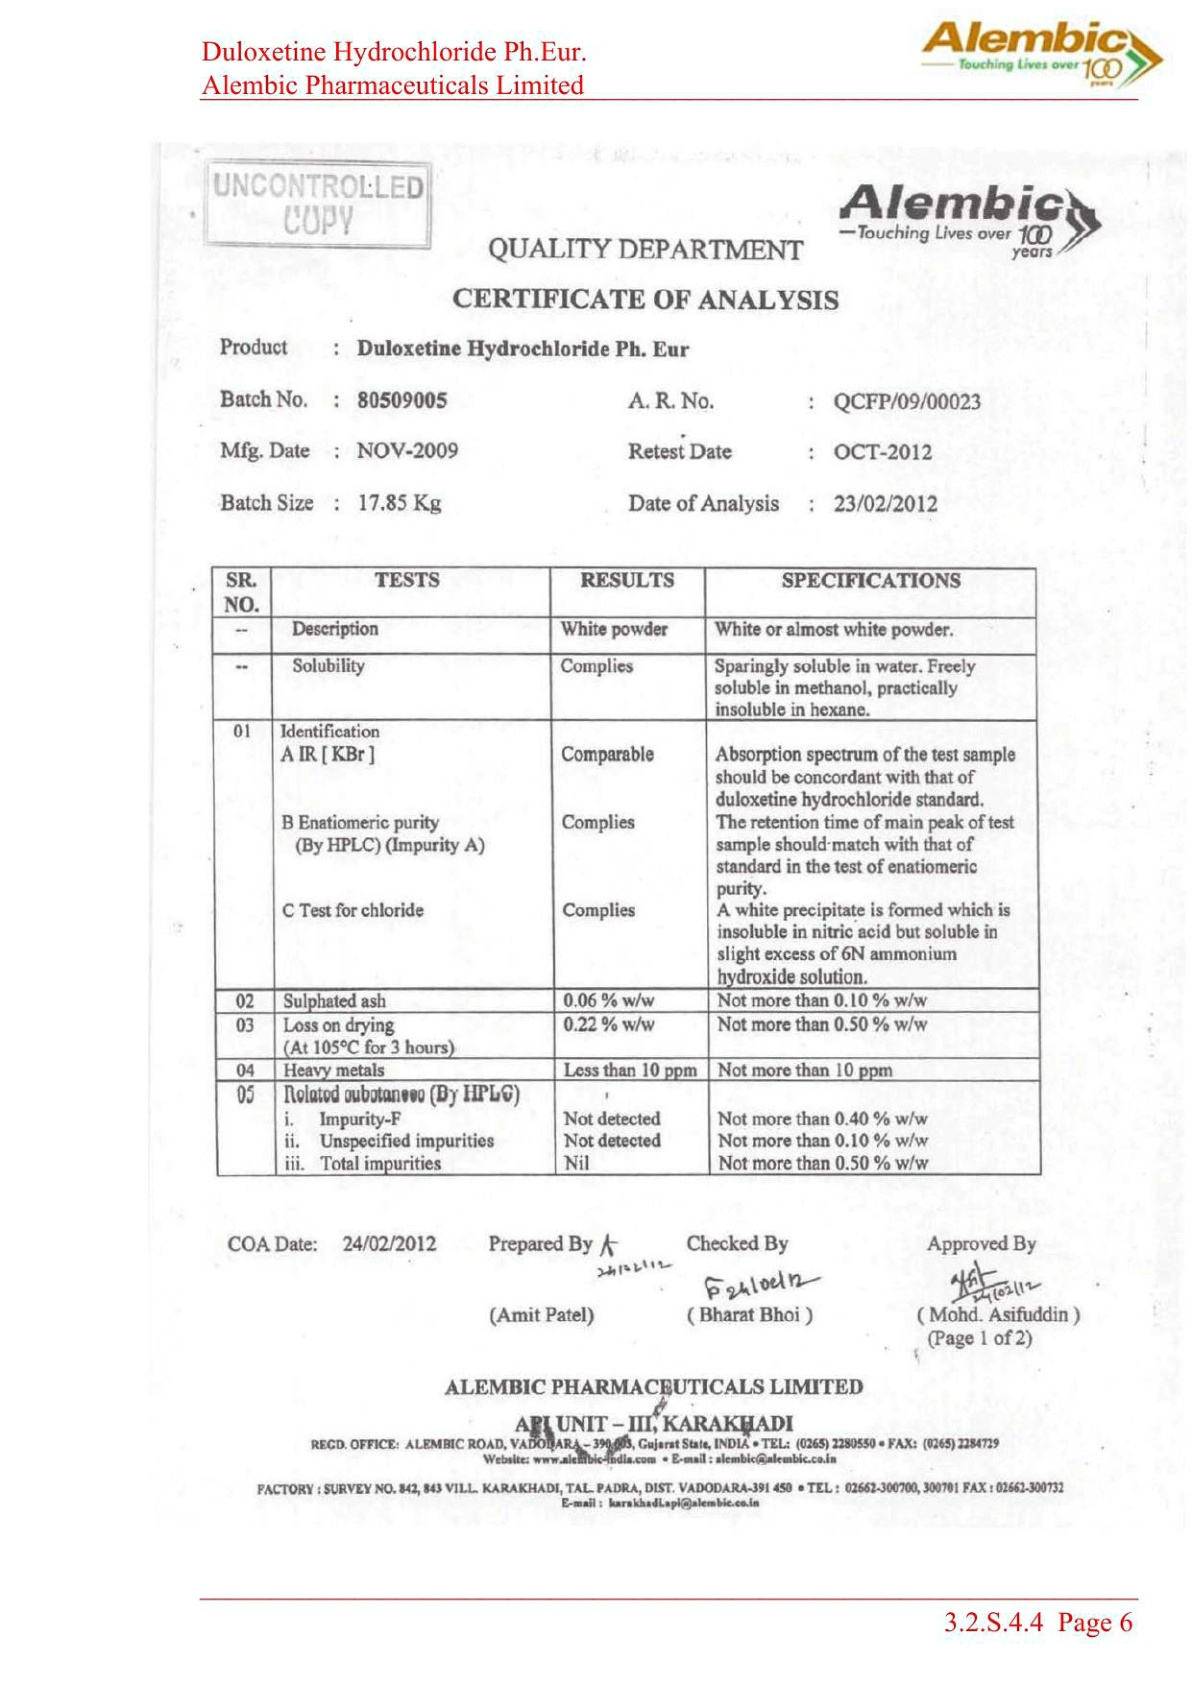full_lined: (209, 564, 1042, 1177)
nolines: (217, 333, 986, 517)
